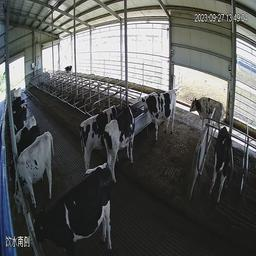cow: (30, 168, 111, 255), (77, 103, 126, 183), (14, 130, 55, 219), (103, 101, 139, 186), (143, 89, 179, 140), (208, 126, 231, 204), (178, 88, 215, 135), (60, 61, 71, 78)
